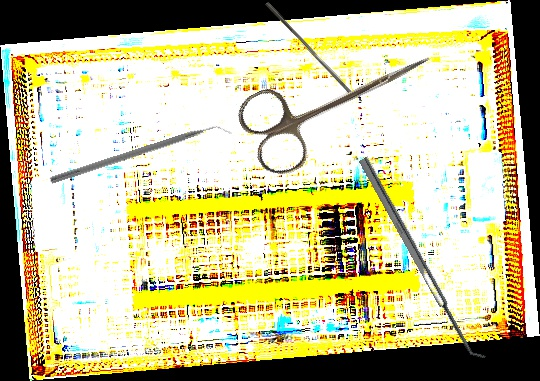Chopper: (48, 119, 234, 194)
Iris Scissors: (231, 15, 447, 184)
Pusher: (261, 1, 358, 98)
Spatula Surgical: (358, 152, 489, 365)
